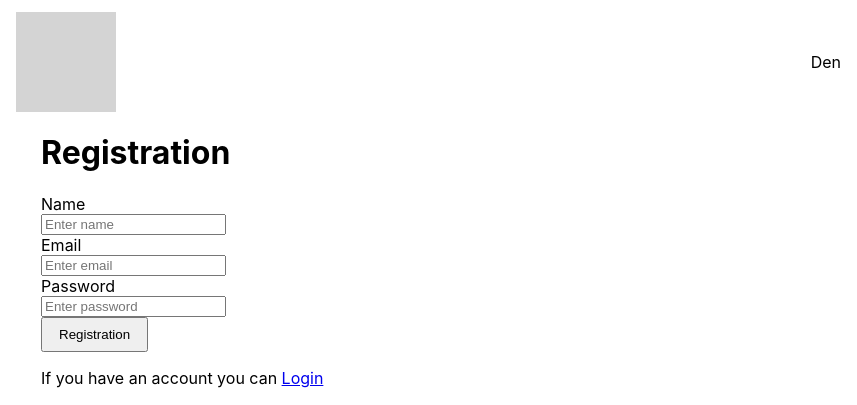
Scenario: App › should switch to login page from registration page on login link click
The width and height of the screenshot is (857, 405).
Expected: the text "Name" is shown, [41,194,226,235]
Expected: the text "Email" is shown, [41,235,226,276]
Click the link "Login": coordinates (302, 378) [282,368,323,388]
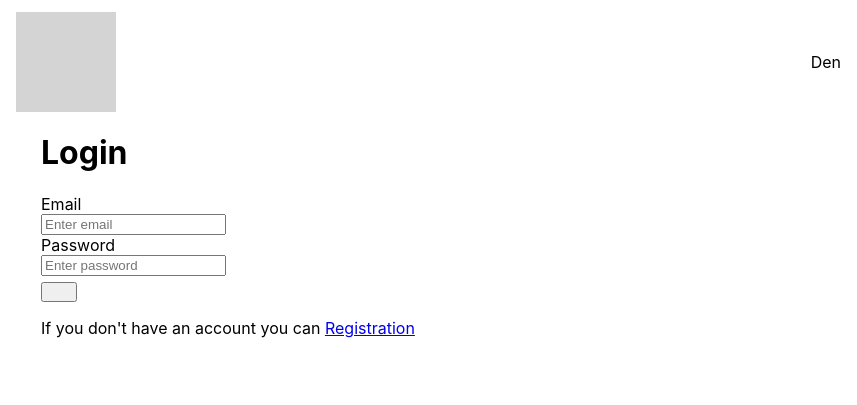
Now the text "Name" is gone
